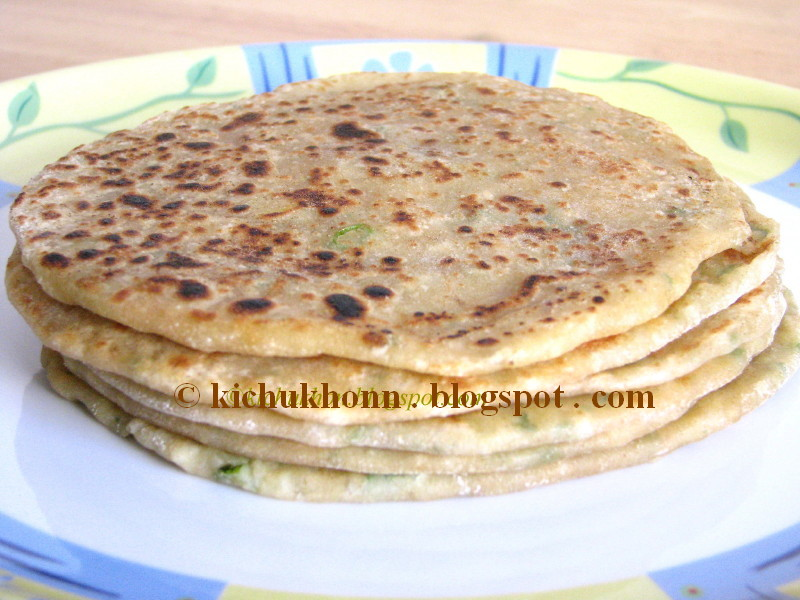aloo_paratha: (5, 70, 796, 508)
